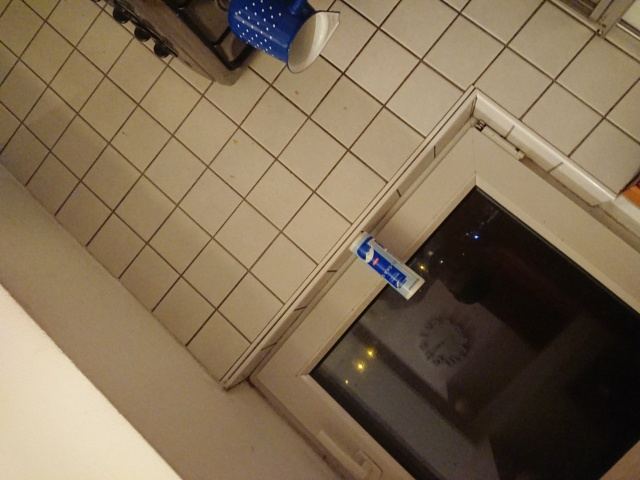Solana Pag Fine Sea Salt 250g: (347, 229, 427, 302)
